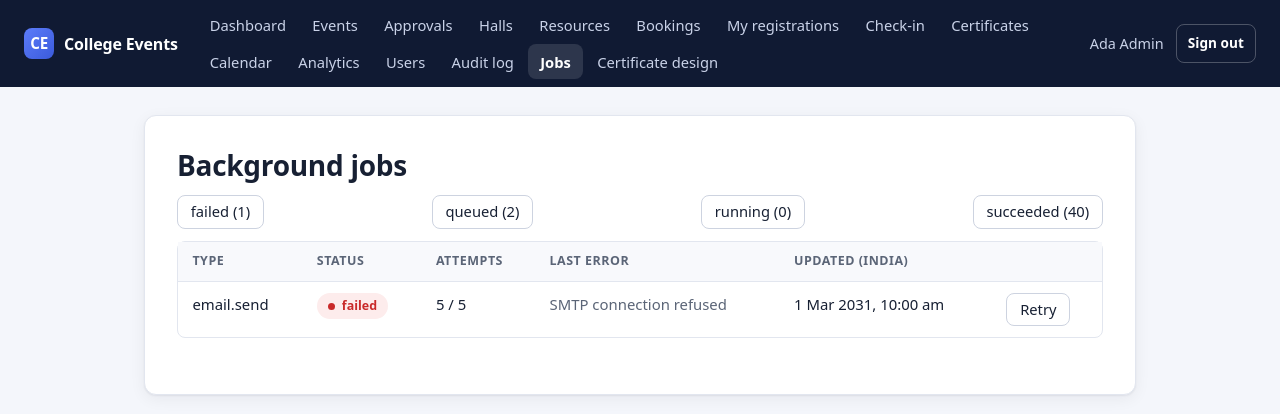
background jobs page › retries a failed job and reloads the list
The width and height of the screenshot is (1280, 414).
Click the button with aria-label "Retry email.send job" at (1038, 310), box [1006,293,1070,326]
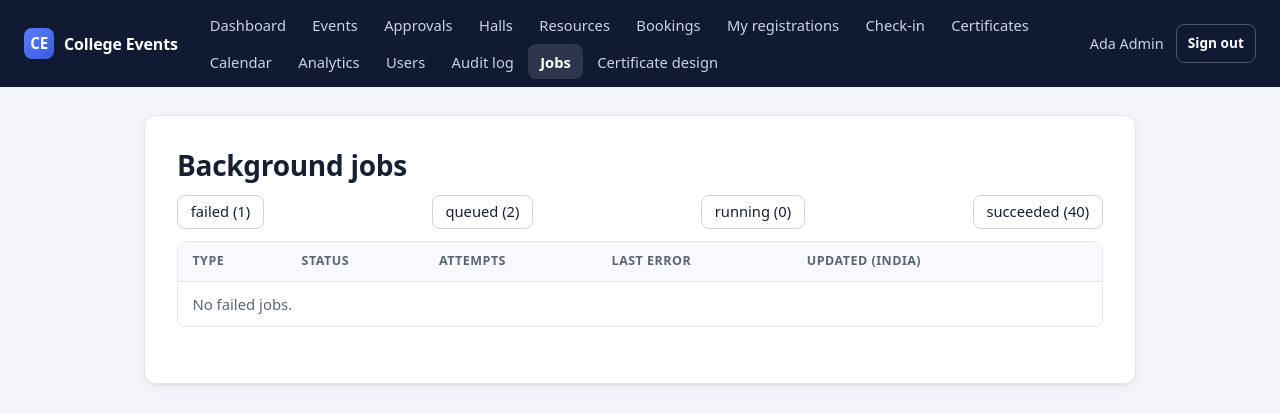
Expected: the text "No failed jobs." is shown, [178,282,1102,326]
